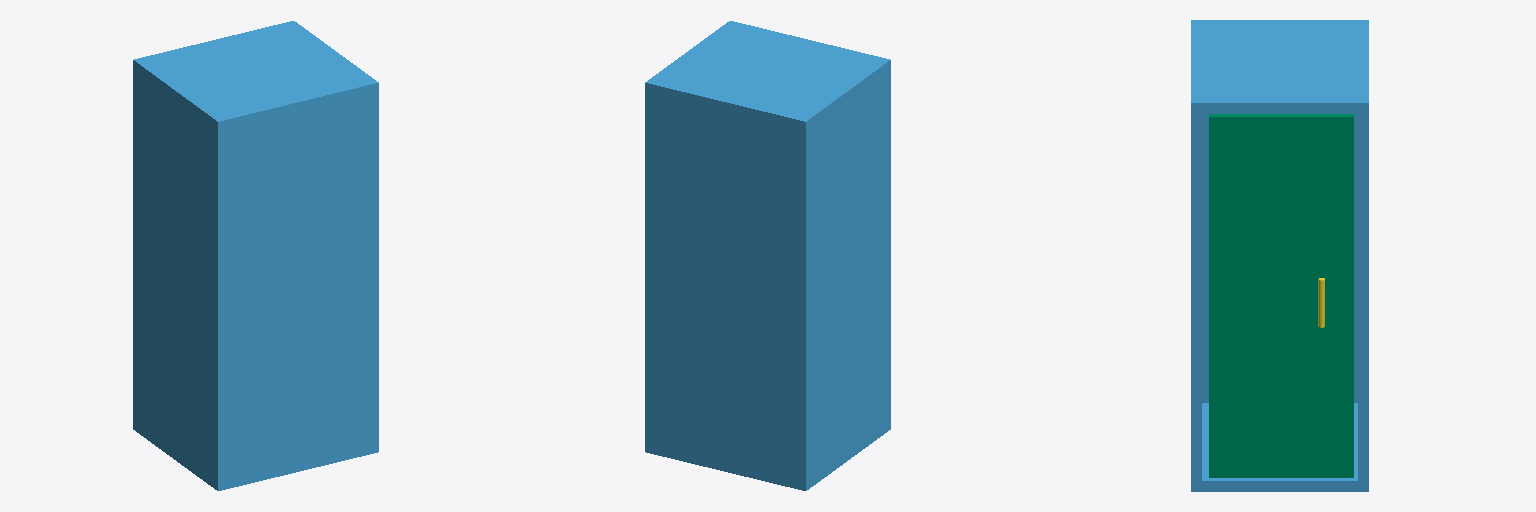
URDF robot description (my_cabinet):
<?xml version="1.0" ?>
<robot name="my_cabinet">
	<link name="world"/>
	<joint name="virtual_joint" type="fixed">
		<parent link="world"/>
		<child link="base_cabinet_link"/>
		<origin xyz="0.0 0.0 0.0" rpy="0.0 0.0 0.0"/>
	</joint>
	<link name="base_cabinet_link">
		<visual>
			<origin xyz="0.0 -0.0025 -0.3202631770480274" rpy="0.0 0.0 0.0"/>
			<geometry>
				<box size="0.3 0.2741461167894019 0.018"/>
			</geometry>
		</visual>
		<collision name="base_cabinet_link_collision_0">
			<origin xyz="0.0 -0.0025 -0.3202631770480274" rpy="0.0 0.0 0.0"/>
			<geometry>
				<box size="0.3 0.2741461167894019 0.018"/>
			</geometry>
		</collision>
		<visual>
			<origin xyz="0.0 0.12557305839470095 0.0" rpy="0.0 0.0 0.0"/>
			<geometry>
				<box size="0.3 0.018 0.6585263540960549"/>
			</geometry>
		</visual>
		<collision name="base_cabinet_link_collision_1">
			<origin xyz="0.0 0.12557305839470095 0.0" rpy="0.0 0.0 0.0"/>
			<geometry>
				<box size="0.3 0.018 0.6585263540960549"/>
			</geometry>
		</collision>
		<visual>
			<origin xyz="0.0 -0.13057305839470093 0.0" rpy="0.0 0.0 0.0"/>
			<geometry>
				<box size="0.3 0.018 0.6585263540960549"/>
			</geometry>
		</visual>
		<collision name="base_cabinet_link_collision_2">
			<origin xyz="0.0 -0.13057305839470093 0.0" rpy="0.0 0.0 0.0"/>
			<geometry>
				<box size="0.3 0.018 0.6585263540960549"/>
			</geometry>
		</collision>
		<visual>
			<origin xyz="0.0 -0.0025 0.3202631770480274" rpy="0.0 0.0 0.0"/>
			<geometry>
				<box size="0.3 0.2741461167894019 0.018"/>
			</geometry>
		</visual>
		<collision name="base_cabinet_link_collision_3">
			<origin xyz="0.0 -0.0025 0.3202631770480274" rpy="0.0 0.0 0.0"/>
			<geometry>
				<box size="0.3 0.2741461167894019 0.018"/>
			</geometry>
		</collision>
		<visual>
			<origin xyz="-0.141 -0.0025 0.0" rpy="0.0 0.0 0.0"/>
			<geometry>
				<box size="0.018 0.2741461167894019 0.6585263540960549"/>
			</geometry>
		</visual>
		<collision name="base_cabinet_link_collision_4">
			<origin xyz="-0.141 -0.0025 0.0" rpy="0.0 0.0 0.0"/>
			<geometry>
				<box size="0.018 0.2741461167894019 0.6585263540960549"/>
			</geometry>
		</collision>
		<inertial>
			<mass value="0.200000"/>
			<inertia ixx="0.008480" ixy="0.0" ixz="0.0" iyy="0.008728" iyz="0.0" izz="0.002753"/>
		</inertial>
	</link>
	<link name="door_link">
		<visual>
			<origin xyz="0.0 -0.11157305839470094 0.0"/>
			<geometry>
				<box size="0.018 0.22314611678940188 0.6125263540960548"/>
			</geometry>
		</visual>
		<collision name="door_link_collision">
			<origin xyz="0.0 -0.11157305839470094 0.0"/>
			<geometry>
				<box size="0.018 0.22314611678940188 0.6125263540960548"/>
			</geometry>
		</collision>
		<inertial>
			<mass value="0.200000"/>
			<inertia ixx="0.007083" ixy="0.0" ixz="0.0" iyy="0.006259" iyz="0.0" izz="0.000835"/>
		</inertial>
	</link>
	<joint name="door_joint" type="revolute">
		<origin xyz="0.141 -0.11157305839470094 0.0" rpy="0.000000 -0.000000 3.141593"/>
		<axis xyz="0 0 1"/>
		<parent link="base_cabinet_link"/>
		<child link="door_link"/>
		<limit effort="50" lower="-1.658062789394613" upper="0" velocity="10"/>
		<dynamics friction="3.5" damping="3.5"/>
	</joint>
	<link name="handle_link">
		<visual>
			<origin xyz="0.0 0.0 0.0" rpy="0.0 0.0 0.0"/>
			<geometry>
				<cylinder length="0.08" radius="0.005"/>
			</geometry>
		</visual>
		<collision name="handle_link_collision_0">
			<origin xyz="0.0 0.0 0.0" rpy="0.0 0.0 0.0"/>
			<geometry>
				<cylinder length="0.08" radius="0.005"/>
			</geometry>
		</collision>
		<visual>
			<origin xyz="-0.01 0.0 0.02" rpy="0.0 1.5707963267948966 0.0"/>
			<geometry>
				<cylinder length="0.02" radius="0.003"/>
			</geometry>
		</visual>
		<collision name="handle_link_collision_1">
			<origin xyz="-0.01 0.0 0.02" rpy="0.0 1.5707963267948966 0.0"/>
			<geometry>
				<cylinder length="0.01" radius="0.003"/>
			</geometry>
		</collision>
		<visual>
			<origin xyz="-0.01 0.0 -0.02" rpy="0.0 1.5707963267948966 0.0"/>
			<geometry>
				<cylinder length="0.02" radius="0.003"/>
			</geometry>
		</visual>
		<collision name="handle_link_collision_2">
			<origin xyz="-0.01 0.0 -0.02" rpy="0.0 1.5707963267948966 0.0"/>
			<geometry>
				<cylinder length="0.02" radius="0.003"/>
			</geometry>
		</collision>
		<inertial>
			<mass value="0.050000"/>
			<inertia ixx="0.000027" ixy="0.0" ixz="0.0" iyy="0.000029" iyz="0.0" izz="0.000003"/>
		</inertial>
	</link>
	<joint name="handle_joint" type="fixed">
		<origin xyz="-0.028999999999999998 -0.1731461167894019 0.0" rpy="0.000000 -0.000000 3.141593"/>
		<parent link="door_link"/>
		<child link="handle_link"/>
	</joint>
	<gazebo reference="base_cabinet_link">
		<sensor name="main_sensor" type="contact">
			<selfCollide>true</selfCollide>
			<alwaysOn>true</alwaysOn>
			<updateRate>5.0</updateRate>
			<material>Gazebo/Red</material>
			<contact>
				<collision>base_cabinet_link_collision_0_collision</collision>
				<collision>base_cabinet_link_collision_1_collision</collision>
				<collision>base_cabinet_link_collision_2_collision</collision>
				<collision>base_cabinet_link_collision_3_collision</collision>
				<collision>base_cabinet_link_collision_4_collision</collision>
			</contact>
			<plugin name="gazebo_ros_bumper_controller" filename="libgazebo_ros_bumper.so">
				<bumperTopicName>/contact</bumperTopicName>
				<frameName>world</frameName>
			</plugin>
		</sensor>
	</gazebo>
	<gazebo reference="door_link">
		<sensor name="main_sensor" type="contact">
			<selfCollide>true</selfCollide>
			<alwaysOn>true</alwaysOn>
			<updateRate>5.0</updateRate>
			<material>Gazebo/Red</material>
			<contact>
				<collision>door_link_collision_collision</collision>
			</contact>
			<plugin name="gazebo_ros_bumper_controller" filename="libgazebo_ros_bumper.so">
				<bumperTopicName>/contact_door</bumperTopicName>
				<frameName>contact_door</frameName>
			</plugin>
		</sensor>
	</gazebo>
	<gazebo reference="door_link">
		<mu>3.0</mu>
		<mu2>3.0</mu2>
		<kp>10000000</kp>
		<kd>100</kd>
	</gazebo>
</robot>

--- Render facts (derived) ---
The picture shows the robot from 3 angles, left to right: view 1: azimuth 30°, elevation 25°; view 2: azimuth 150°, elevation 25°; view 3: azimuth 270°, elevation 25°; orthographic projection.
Robot: my_cabinet — 4 links, 3 joints (1 revolute, 2 fixed); root link world; default pose: every joint at zero.
Visible links, largest first — view 1: base_cabinet_link; view 2: base_cabinet_link; view 3: door_link, base_cabinet_link.
Boxes of the visible links, box(x1,y1,x2,y2) form: base_cabinet_link: box(133, 21, 378, 490); base_cabinet_link: box(645, 21, 890, 490); door_link: box(1209, 114, 1353, 477); base_cabinet_link: box(1191, 20, 1368, 491).
Bounding box of the posed robot: 0.325 × 0.2741 × 0.6585 m (x, y, z).
Geometry: primitives only (box / cylinder / sphere), no mesh files.
